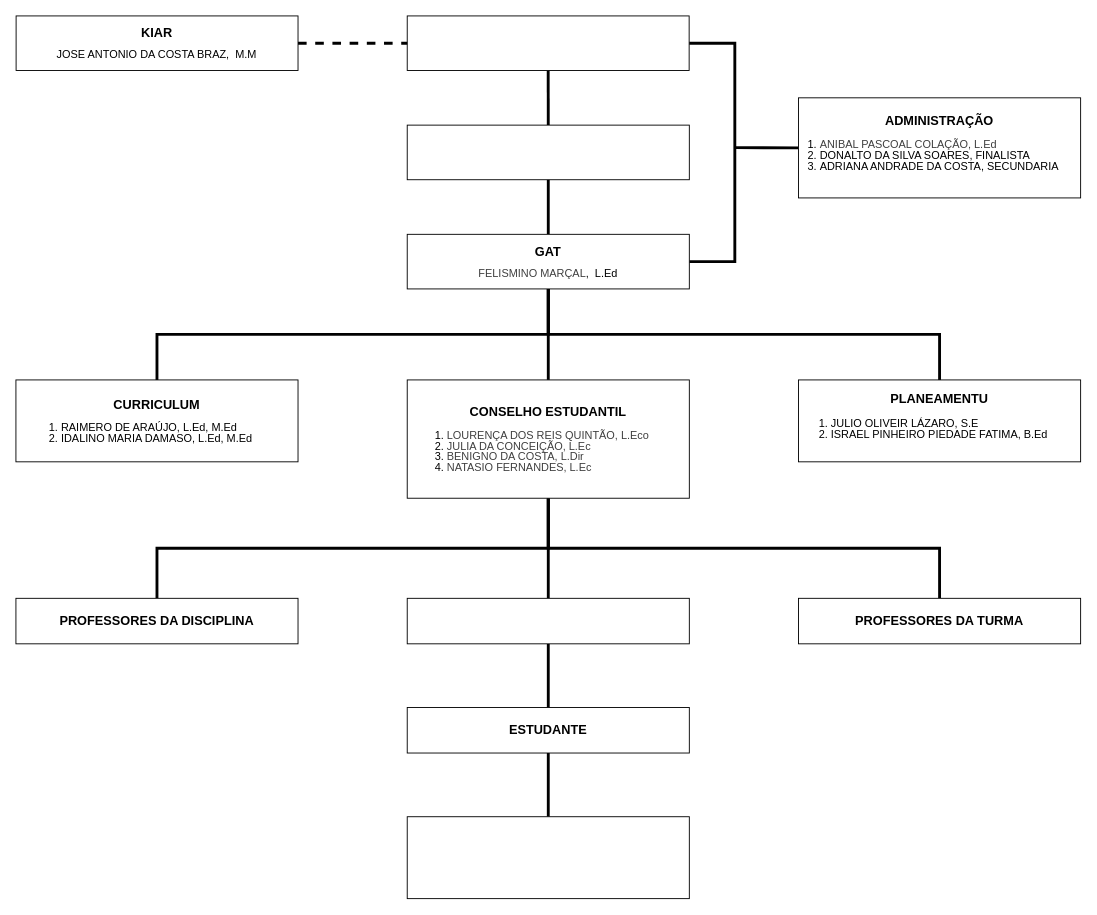
The diagram is 1097 pixels wide and 915 high, and some of its shapes have lost their labels. The shapes that lost their labels are listed below. From the top down, each one's box as (x1, y1, x2, y2) in pixels, then its label:
(406, 15, 689, 71): DIRETORA JULIANA MENDONÇA SARMENTO, L.Eco
(406, 124, 689, 180): ADJUNTO NAZARIO DA SILVA, L.Cp
(406, 597, 689, 644): OEIE
(406, 816, 689, 899): SEGURAN ÇA NEMEZIO DOS SANTOS ALFREDO DA COSTA
